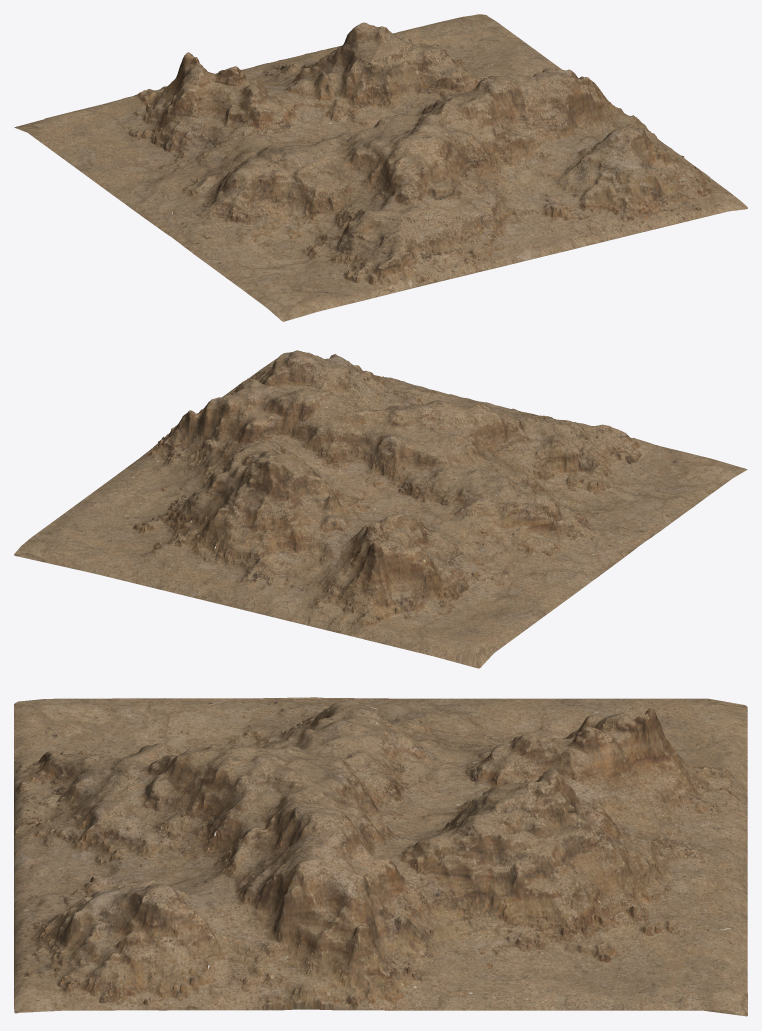
The model's file is mountains_No3.glb.
3 views of the same model, one above another, from view 1: azimuth 30°, elevation 25°; view 2: azimuth 150°, elevation 25°; view 3: azimuth 270°, elevation 25° (orthographic). The views are drawn at different scales.
Parts seen in each view (by area): view 1: Object_2, Object_3; view 2: Object_2, Object_3; view 3: Object_2, Object_3.
Part boxes in pixels (x1,y1,x2,y2): Object_2: [14, 14, 747, 321]; Object_3: [83, 23, 719, 318]; Object_2: [14, 350, 747, 668]; Object_3: [31, 353, 746, 641]; Object_2: [14, 697, 747, 1016]; Object_3: [14, 697, 747, 1012].
Bounding box in the file's own units: 4.06 × 0.7325 × 4.05.
1 material, 1 textured.
